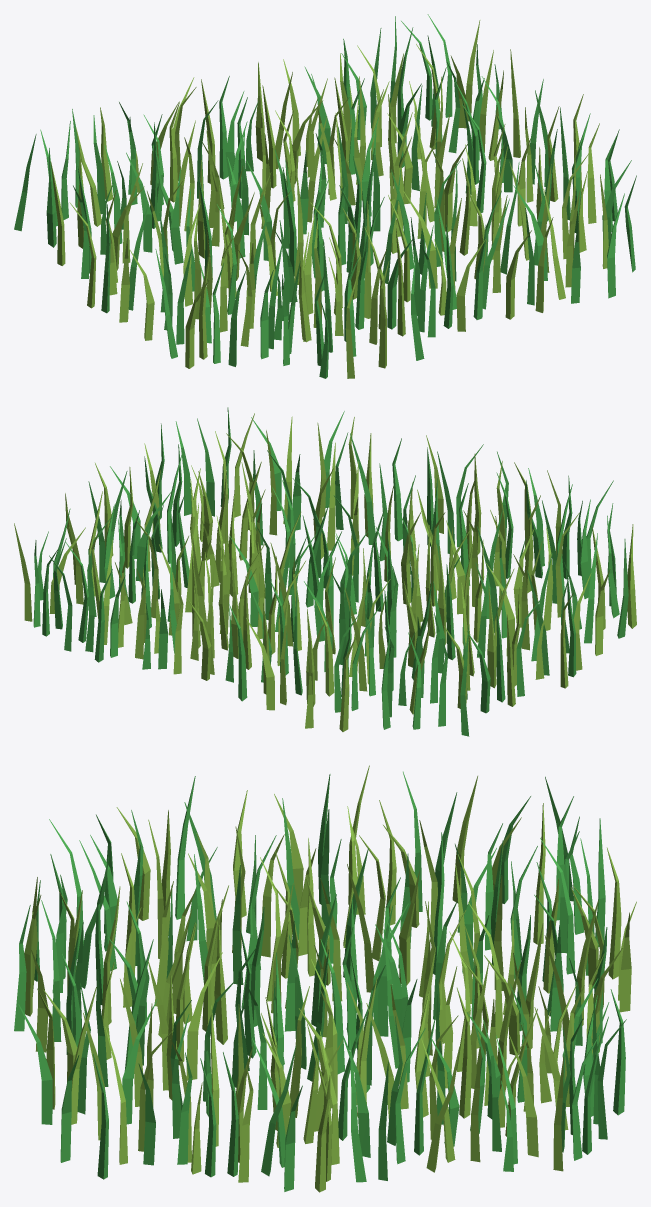
The model's file is GrassPatchLight.glb.
The picture shows the model from 3 angles, top to bottom: view 1: azimuth 30°, elevation 25°; view 2: azimuth 150°, elevation 25°; view 3: azimuth 270°, elevation 25°; orthographic projection. The views are drawn at different scales.
Parts seen in each view (by area): view 1: Node; view 2: Node; view 3: Node.
Part boxes in pixels (x1,y1,x2,y2): Node: (14, 14, 636, 378); Node: (14, 407, 636, 736); Node: (14, 765, 636, 1192).
Bounding box in the file's own units: 2.63 × 0.6652 × 2.25.
